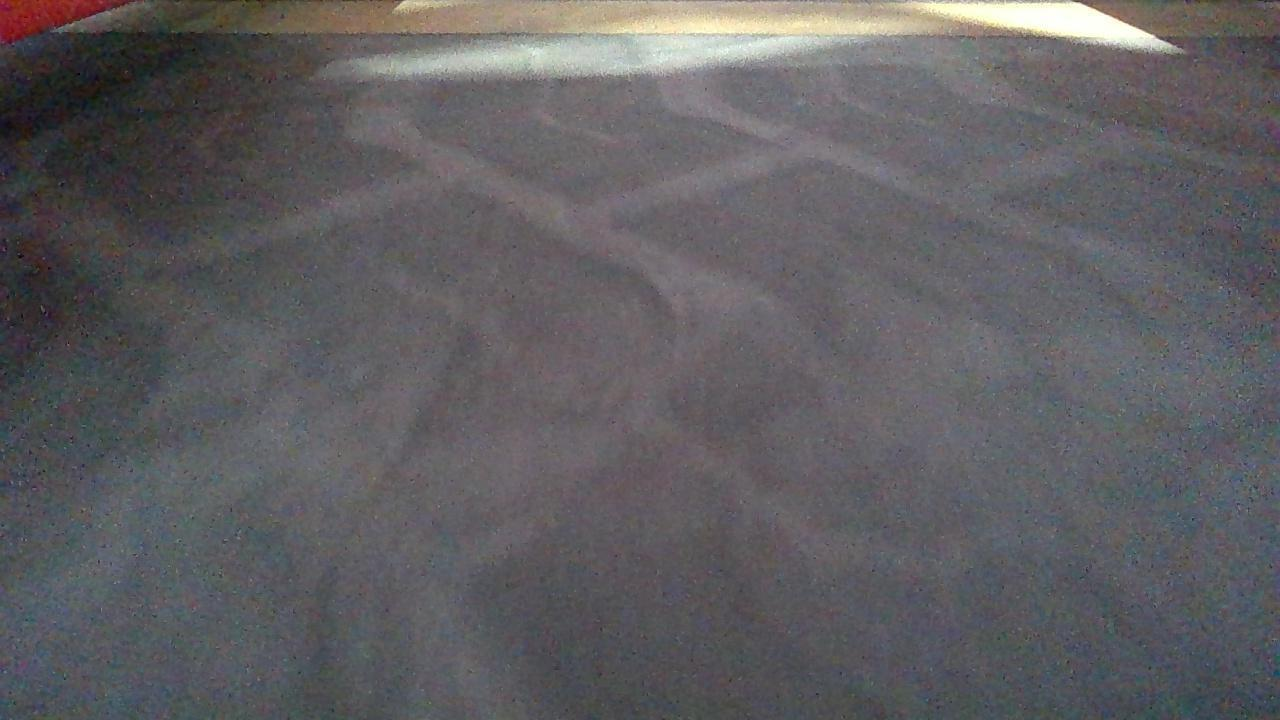yellow_line: (101, 0, 1279, 36)
